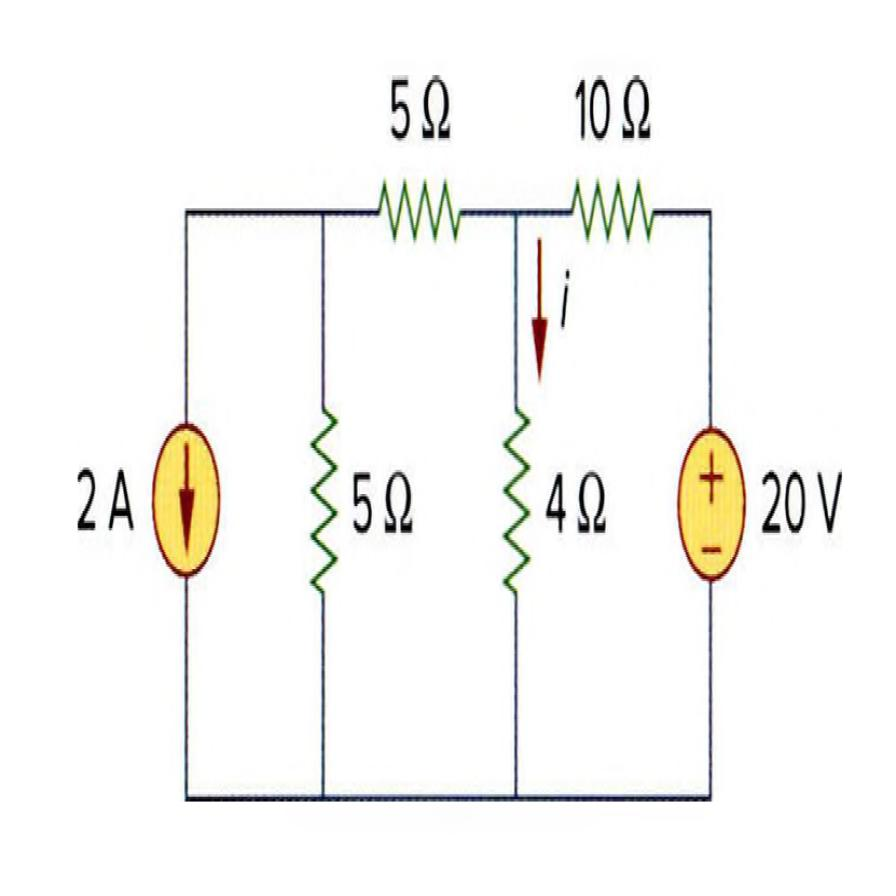I3: (150, 409, 232, 590)
R1: (368, 157, 466, 265), (563, 159, 663, 258)
R2: (485, 390, 538, 610), (296, 394, 343, 628)
V1: (667, 420, 756, 598)
